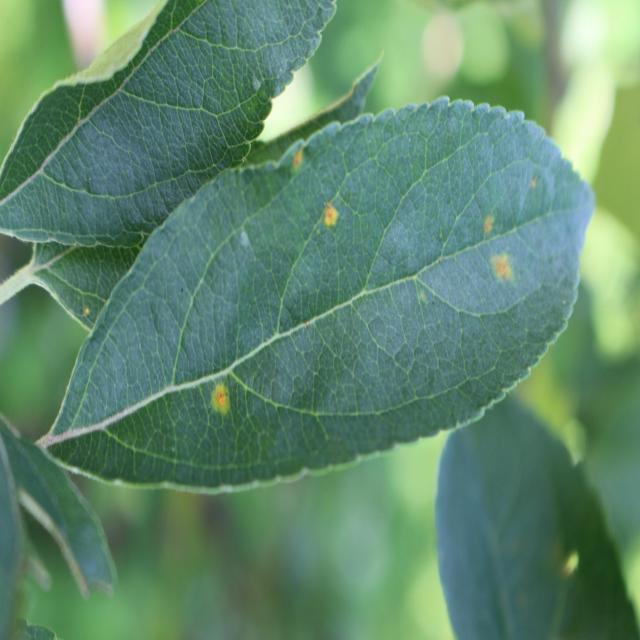Rust: (210, 373, 237, 436), (482, 247, 520, 290), (476, 197, 501, 244), (318, 200, 344, 238), (286, 138, 312, 174), (522, 160, 546, 192)
